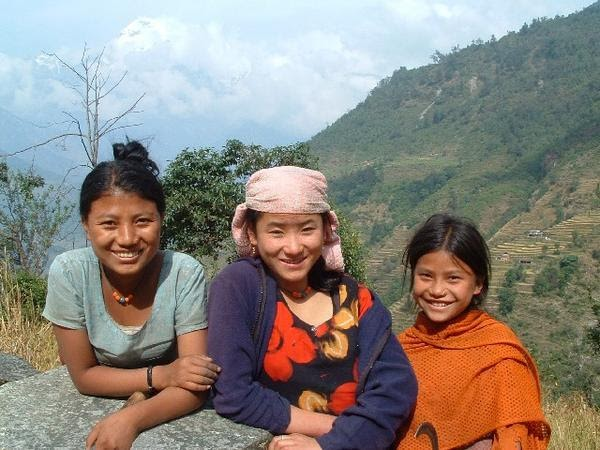human: (206, 151, 417, 450), (42, 134, 215, 450), (378, 207, 572, 450)
